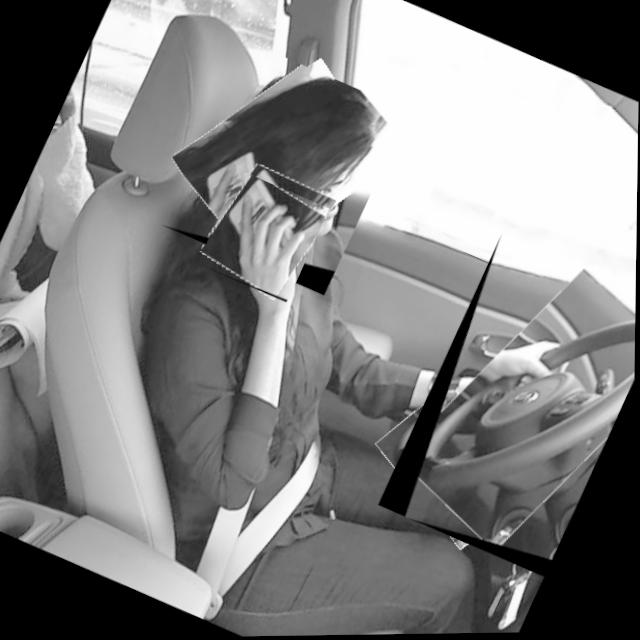phone: (160, 39, 409, 299), (197, 170, 330, 305)
wheel: (377, 233, 637, 581)
